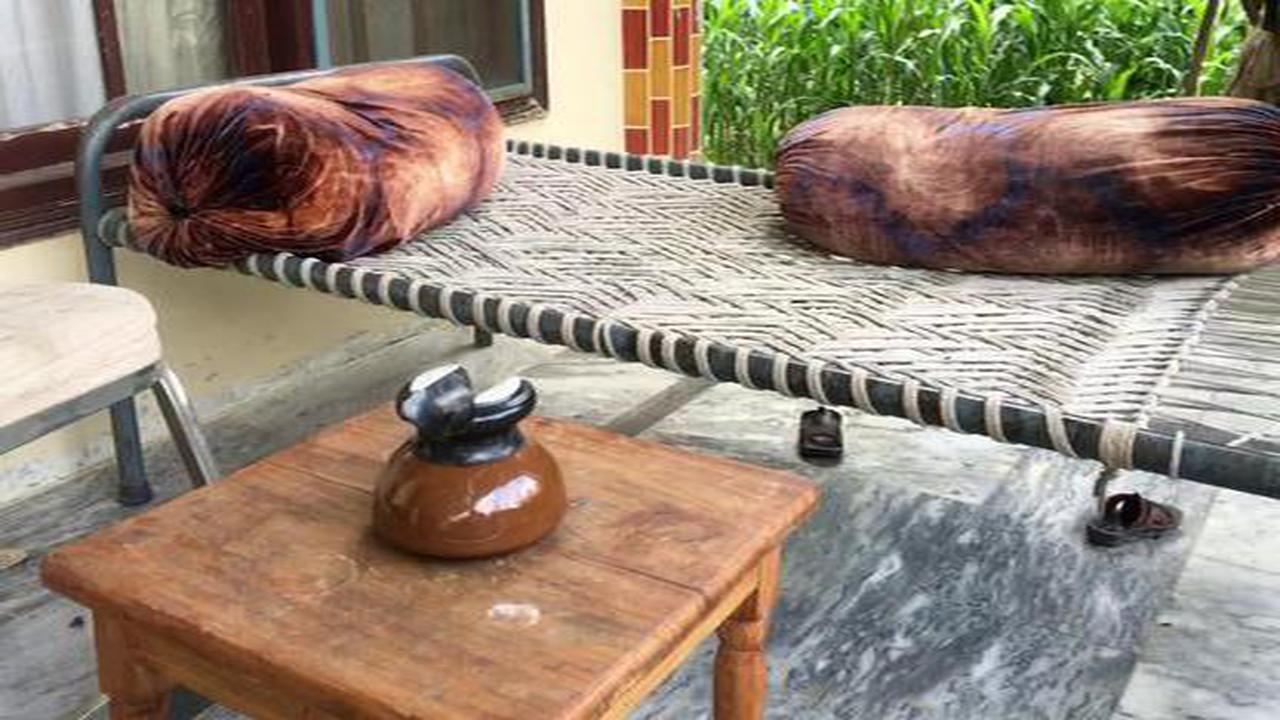insulator_pin: (345, 343, 585, 575)
